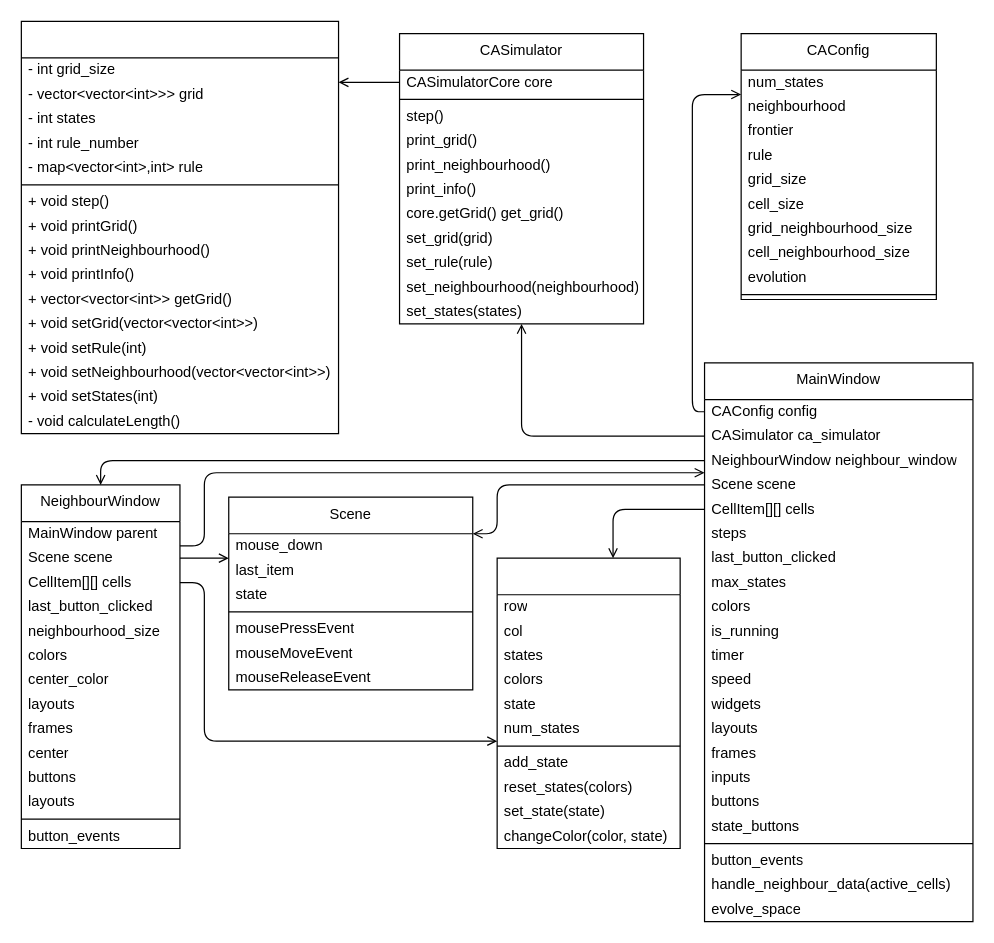
This 994x943 diagram has some shape labels left out. The box of each missing label's shape, as (x1, y1, x2, y2) in pixels:
CASimulatorCore: (20, 20, 339, 434)
CellItem: (496, 557, 680, 849)
